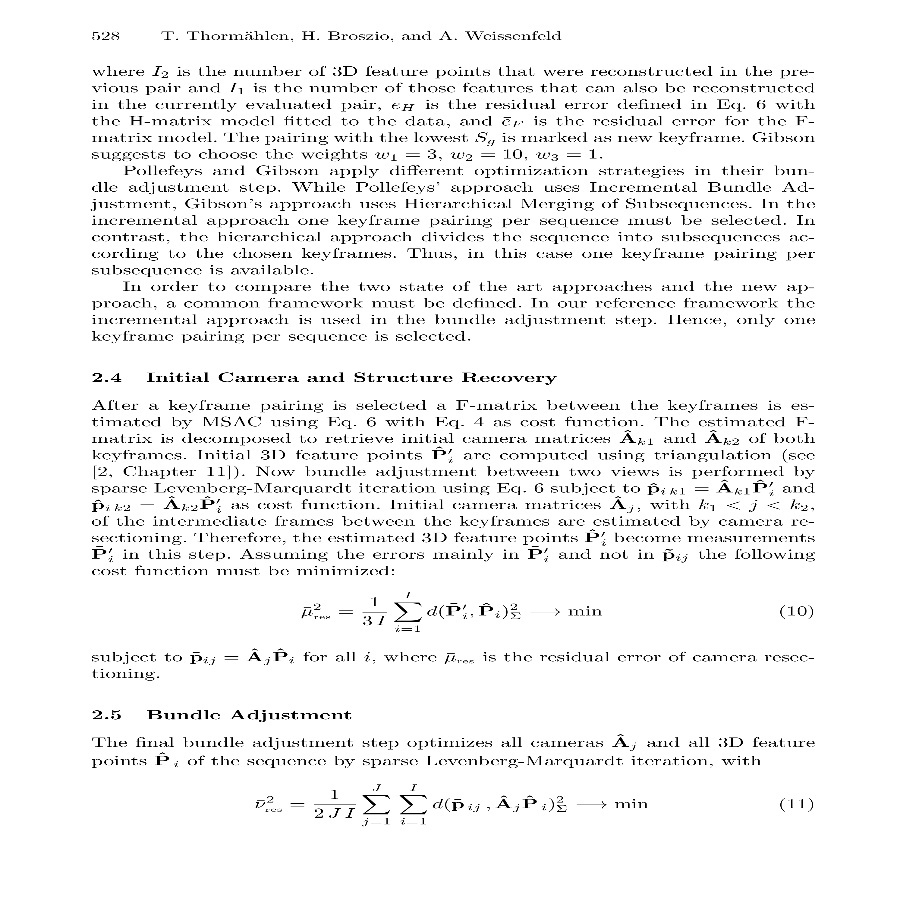eq: (252, 779, 651, 828), (300, 589, 610, 634)
